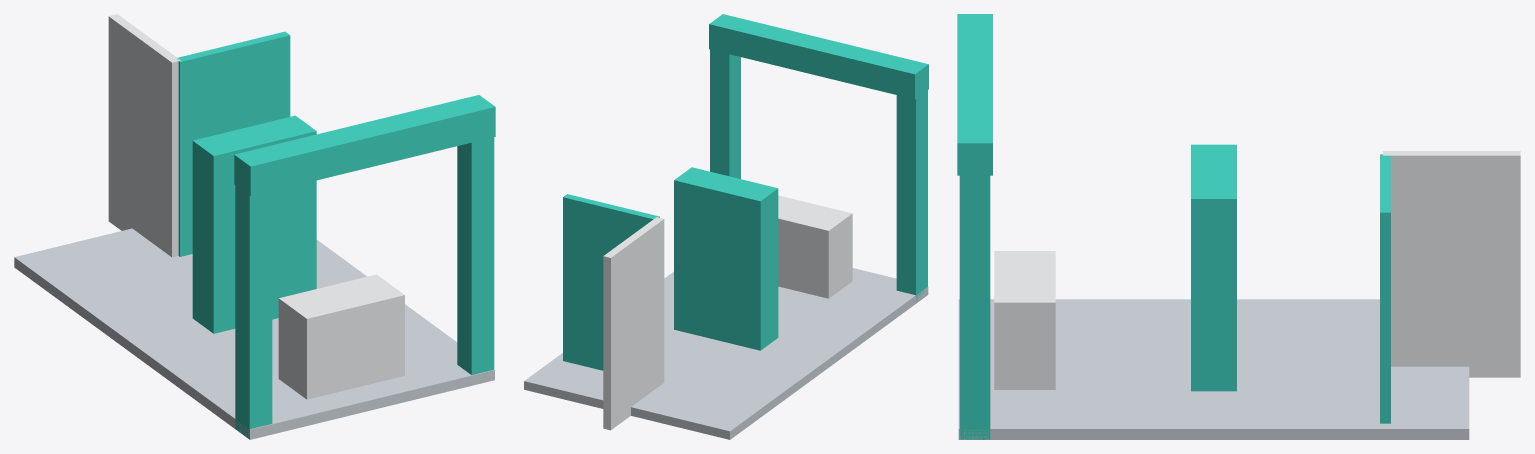
3 views of the same model, side by side, from view 1: azimuth 30°, elevation 25°; view 2: azimuth 150°, elevation 25°; view 3: azimuth 270°, elevation 25° (orthographic). The views are drawn at different scales.
Parts seen in each view (by area): view 1: Exhibition Booth Concept; view 2: Exhibition Booth Concept; view 3: Exhibition Booth Concept.
Boxes of the visible parts, box(x1,y1,x2,y2) form: Exhibition Booth Concept: box(14, 14, 495, 439); Exhibition Booth Concept: box(524, 14, 928, 439); Exhibition Booth Concept: box(957, 14, 1520, 439).
Size of the model in its own units: 3 by 3.2 by 5.52.
